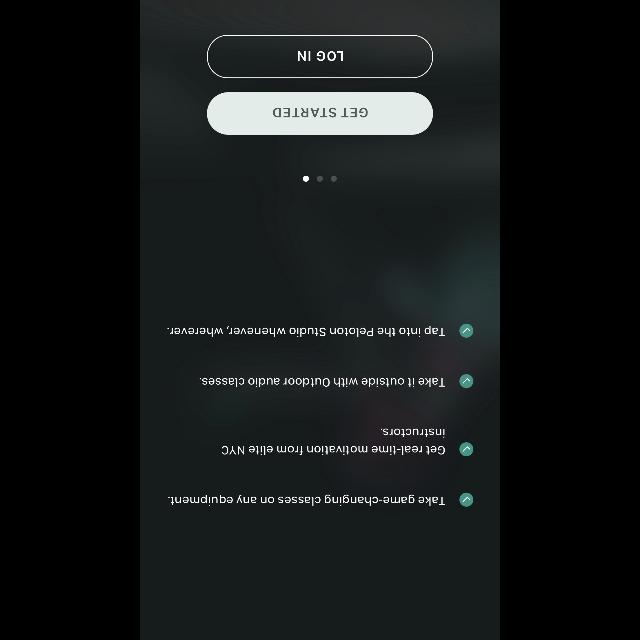checkbox: (459, 324, 473, 338), (459, 494, 473, 506), (460, 442, 472, 456), (460, 374, 472, 388)
pageindicator: (303, 176, 337, 182)
text: (222, 428, 444, 456), (168, 494, 446, 506), (168, 326, 446, 336), (200, 378, 444, 388)
textbutton: (207, 35, 433, 79), (207, 92, 433, 134)
